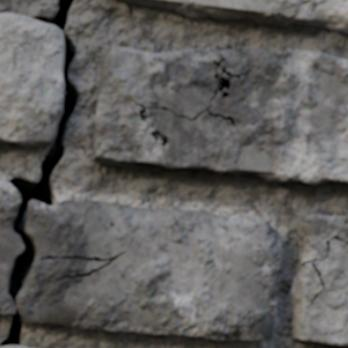brick: (94, 46, 347, 183), (0, 14, 63, 146), (291, 215, 347, 345), (121, 0, 347, 32)
broken_brick: (19, 200, 282, 342), (0, 178, 23, 316)
crack: (0, 0, 81, 347), (302, 235, 347, 307)
